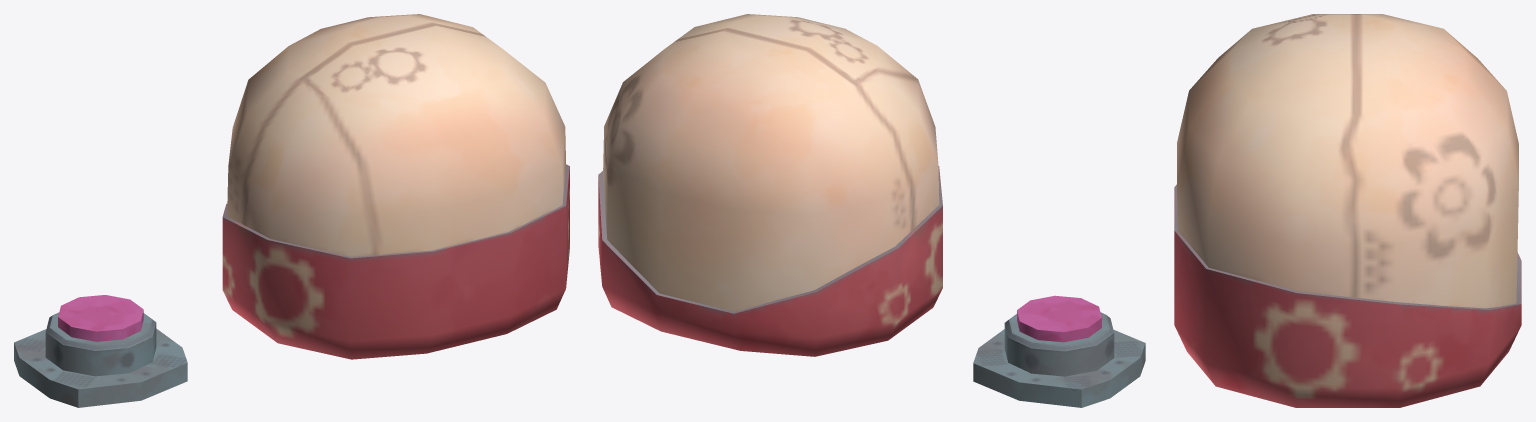
File: Basket_V01.fbx
3 renders of one model, left to right at view 1: azimuth 30°, elevation 25°; view 2: azimuth 150°, elevation 25°; view 3: azimuth 270°, elevation 25°, orthographic. The views are drawn at different scales.
Visible parts, largest first — view 1: BasketLid, Basket, ButtonBase, Button; view 2: BasketLid, Basket, ButtonBase, Button; view 3: BasketLid, Basket.
Boxes of the visible parts, <box> form: BasketLid: <box>227,14,566,256</box>; Basket: <box>222,164,569,359</box>; ButtonBase: <box>14,312,187,407</box>; Button: <box>58,295,143,341</box>; BasketLid: <box>603,14,939,311</box>; Basket: <box>598,166,942,356</box>; ButtonBase: <box>973,312,1145,407</box>; Button: <box>1017,295,1101,342</box>; BasketLid: <box>1177,14,1518,308</box>; Basket: <box>1174,184,1521,407</box>.
Size of the model in its own units: 66.31 by 32.83 by 34.21.
1 material, 1 textured.
